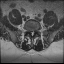CCS_normal: (31, 29, 33, 37)
LFS_severe_stenosis: (35, 29, 37, 33)
LLS_normal: (33, 29, 35, 35)
RFS_stenosis: (28, 28, 30, 34)
RLS_severe_stenosis: (30, 29, 31, 35)
